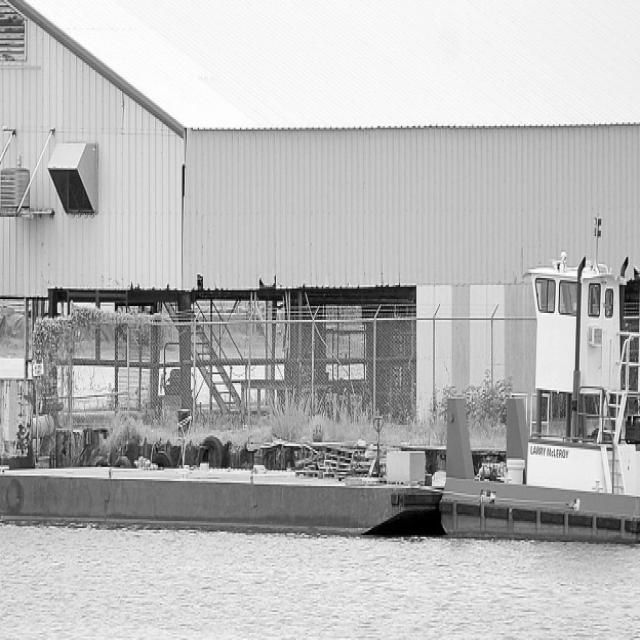tugboat: (435, 213, 640, 568)
